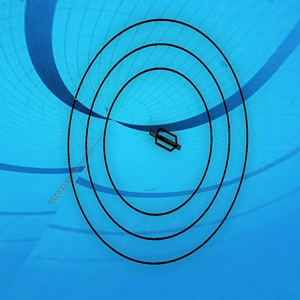circle: (66, 17, 248, 266)
submarine: (149, 126, 181, 153)
